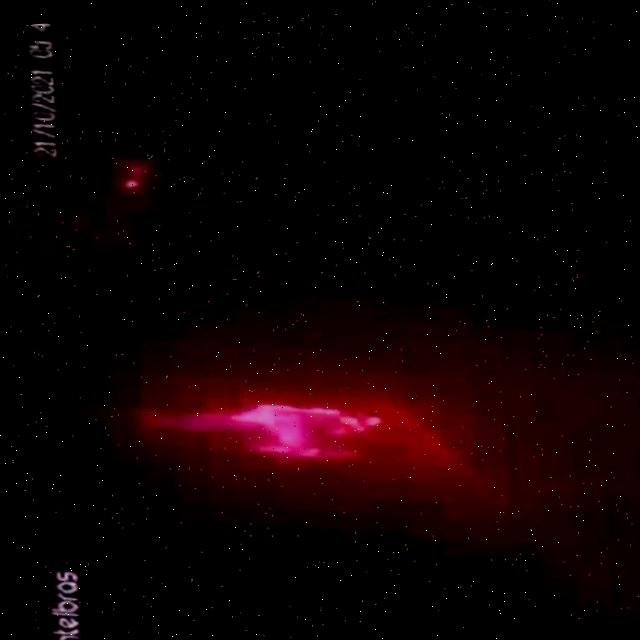fire: (95, 308, 470, 554)
